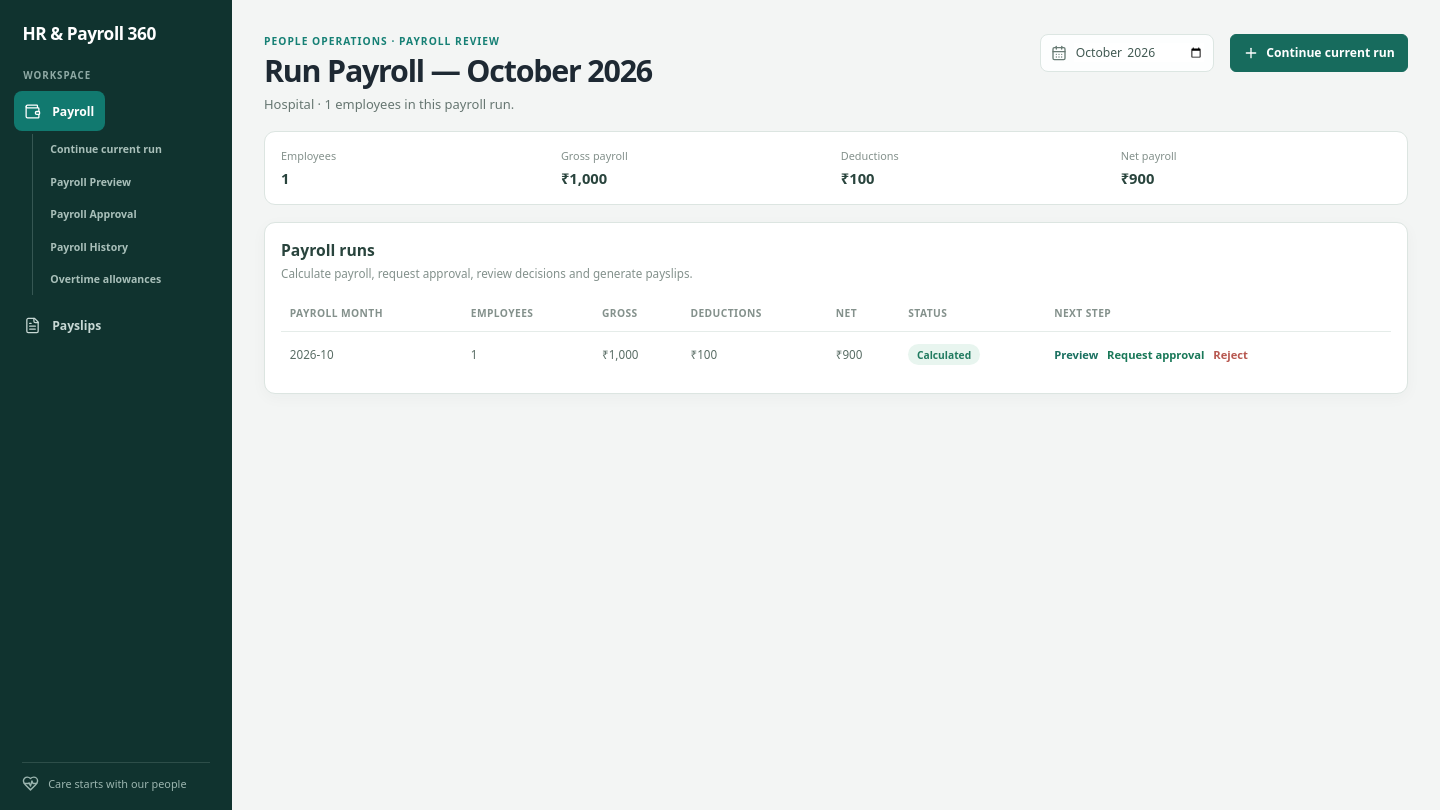
it: PayrollPage › explains maker-checker approval and hides self-approval action
Expected: the button "Approve" is not shown
Expected: the button "Reject" is shown, [1213, 344, 1248, 365]
Click the button "Request approval": (1156, 355) [1107, 344, 1204, 365]
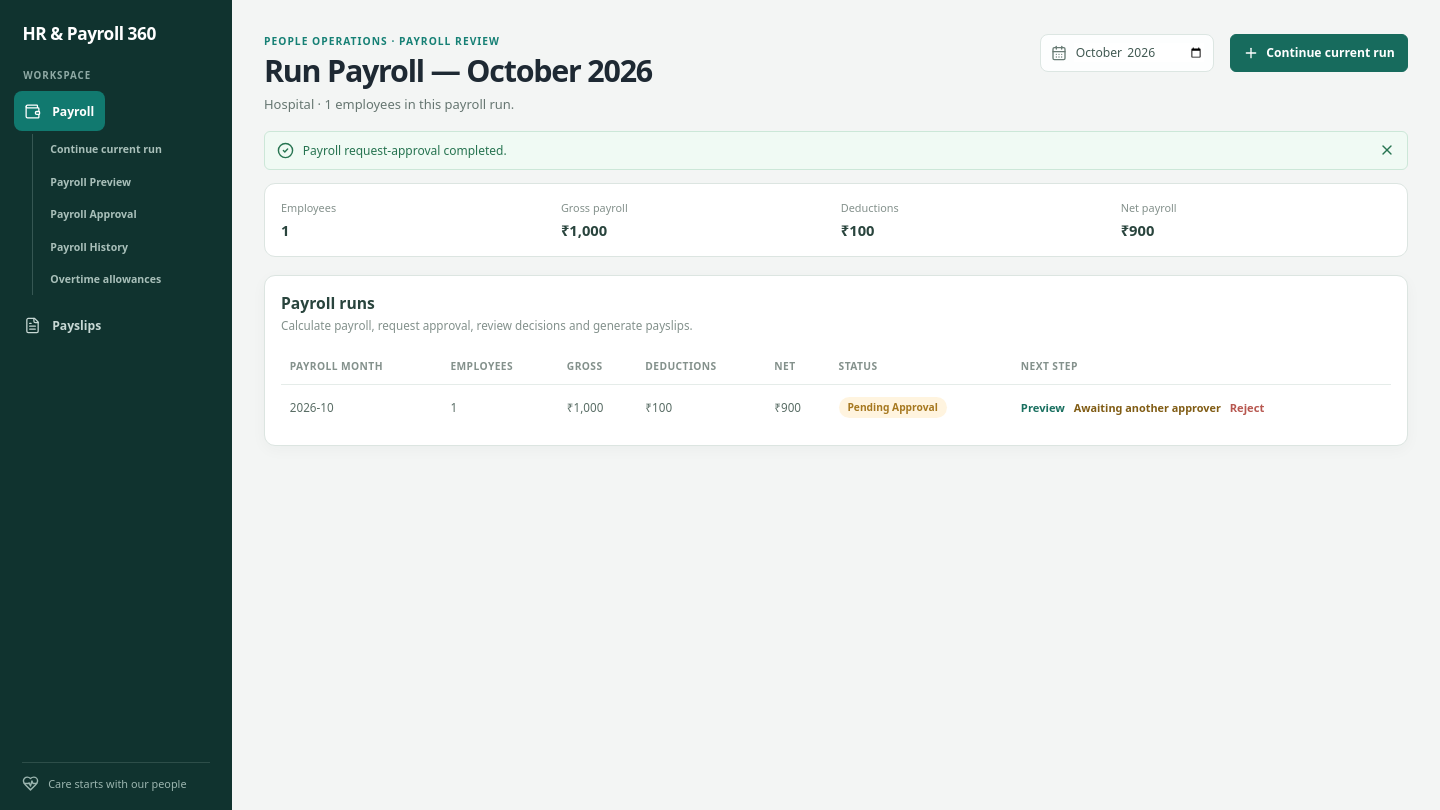
Now the message reads "Payroll request-approval completed.", box [303, 142, 507, 159]
Now the text "Awaiting another approver" is shown, box [1074, 400, 1221, 415]
